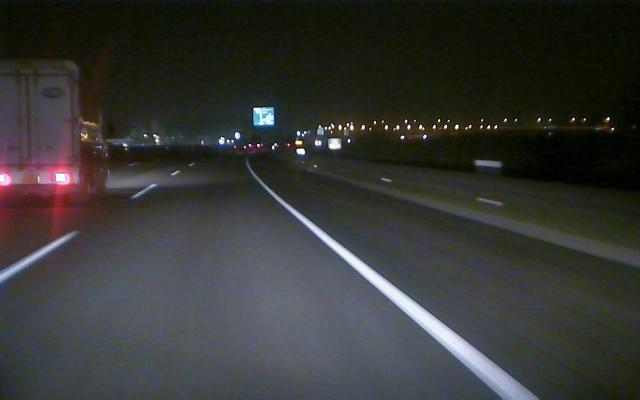lane: (249, 170, 540, 399), (1, 170, 180, 282)
